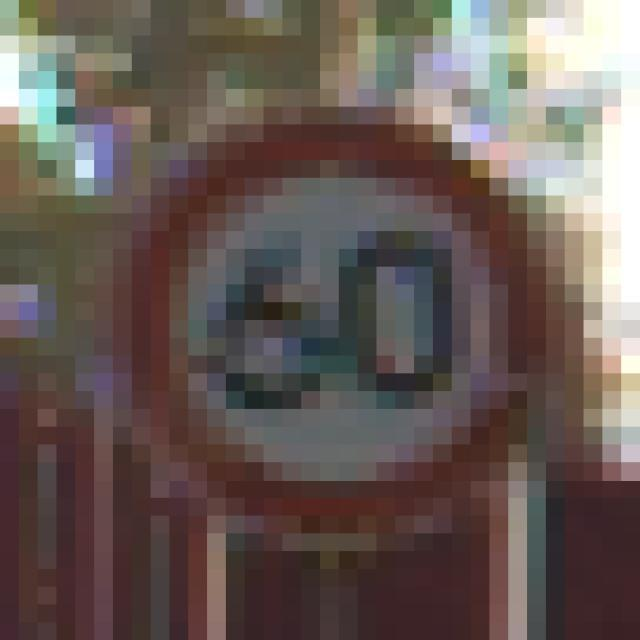Ograniczenie predkosci do 60: (132, 110, 547, 536)
